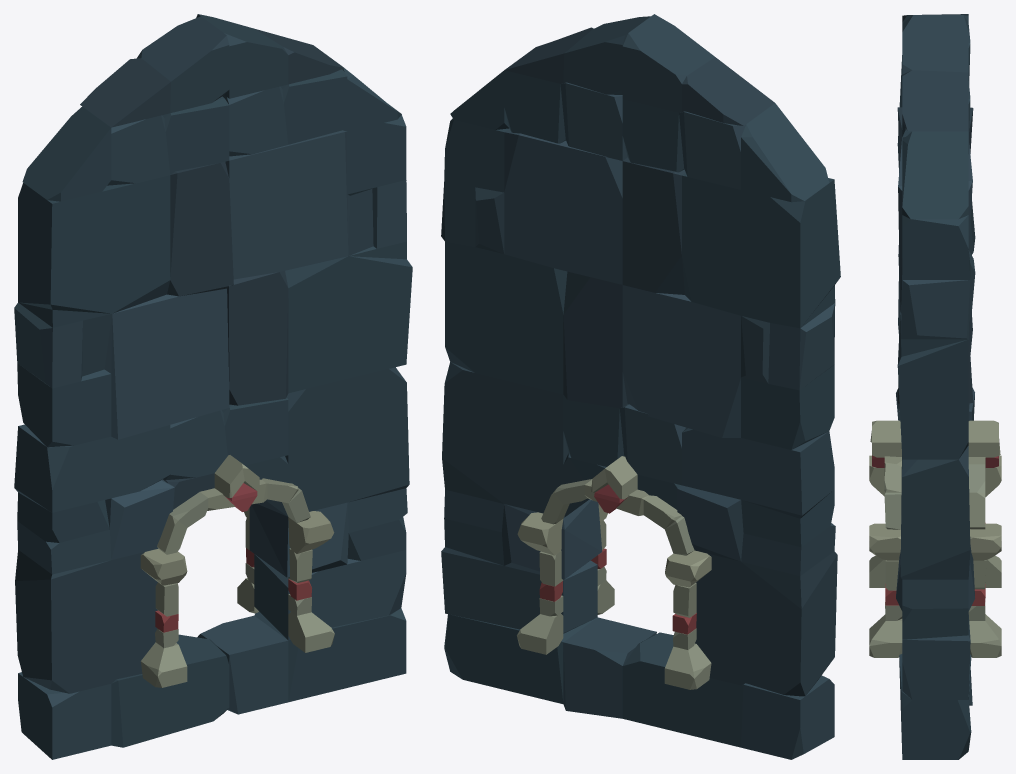
File: wall_with_door_large.fbx
3 renders of one model, left to right at view 1: azimuth 30°, elevation 25°; view 2: azimuth 150°, elevation 25°; view 3: azimuth 270°, elevation 25°, orthographic. The views are drawn at different scales.
Visible parts, largest first — view 1: wall_with_door_large; view 2: wall_with_door_large; view 3: wall_with_door_large.
Boxes of the visible parts, left/top/right/bottom form: wall_with_door_large: left=14, top=14, right=412, bottom=759; wall_with_door_large: left=441, top=14, right=840, bottom=759; wall_with_door_large: left=869, top=14, right=1001, bottom=759.
Bounding box in the file's own units: 617 × 1106 × 200.
